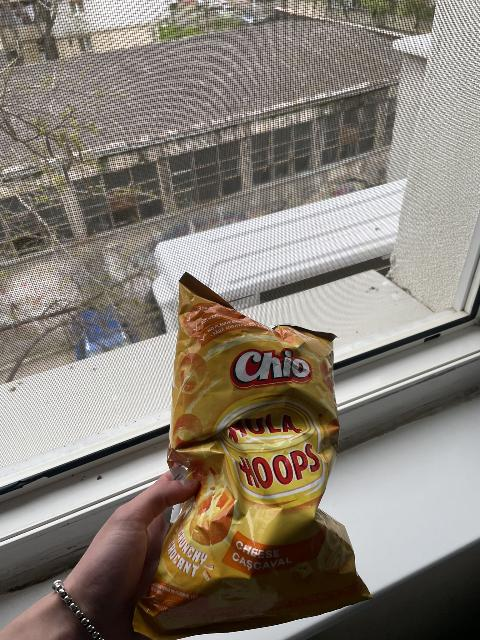Chio Hula Hoops Cheese 70g: (140, 280, 370, 634)
